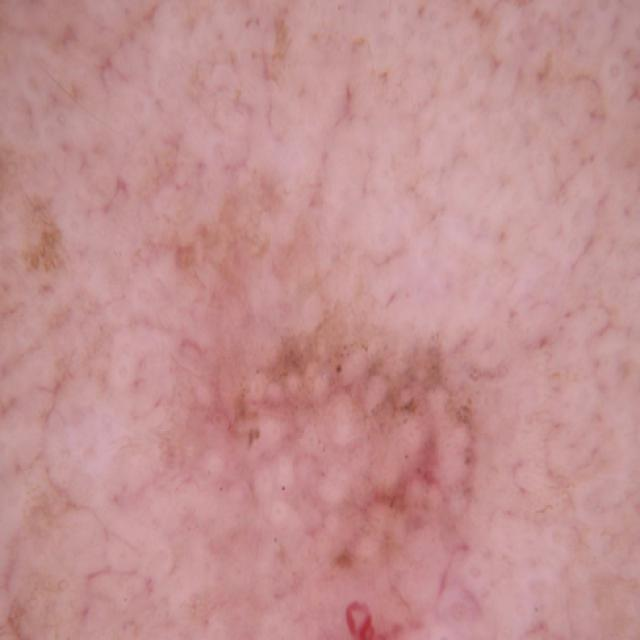Melanoma: (151, 288, 513, 640)
